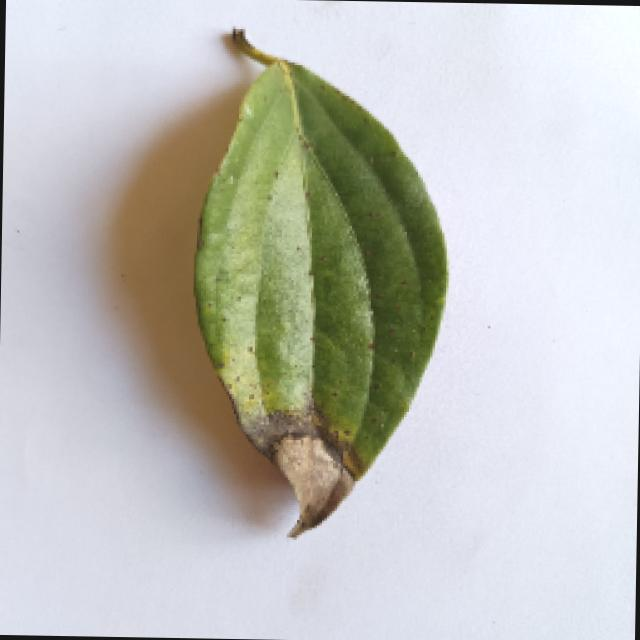footrot: (181, 30, 452, 545)
